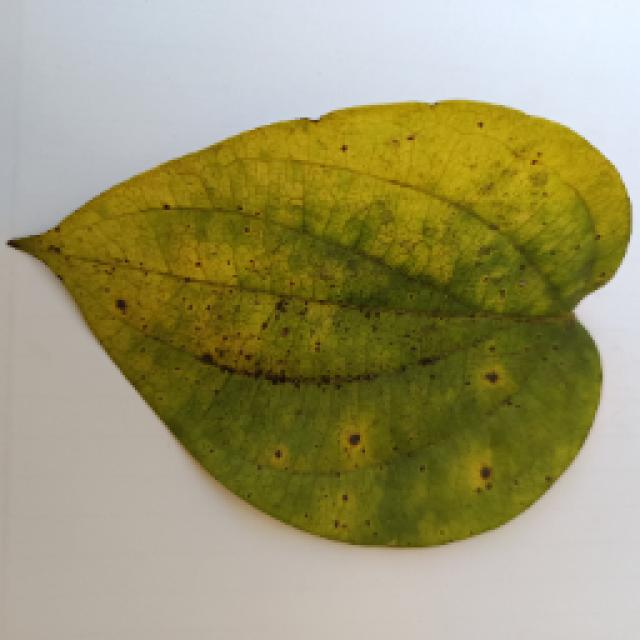slow-decline: (0, 117, 612, 560)
